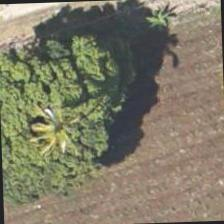Kelapa_Sawit: (7, 78, 100, 170)
